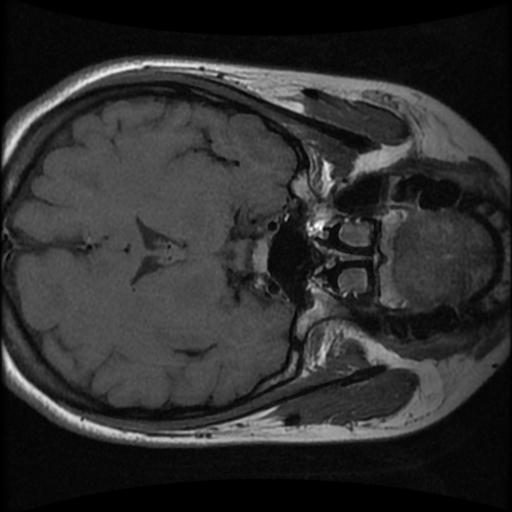pituitary tumour: (249, 240, 269, 276)
